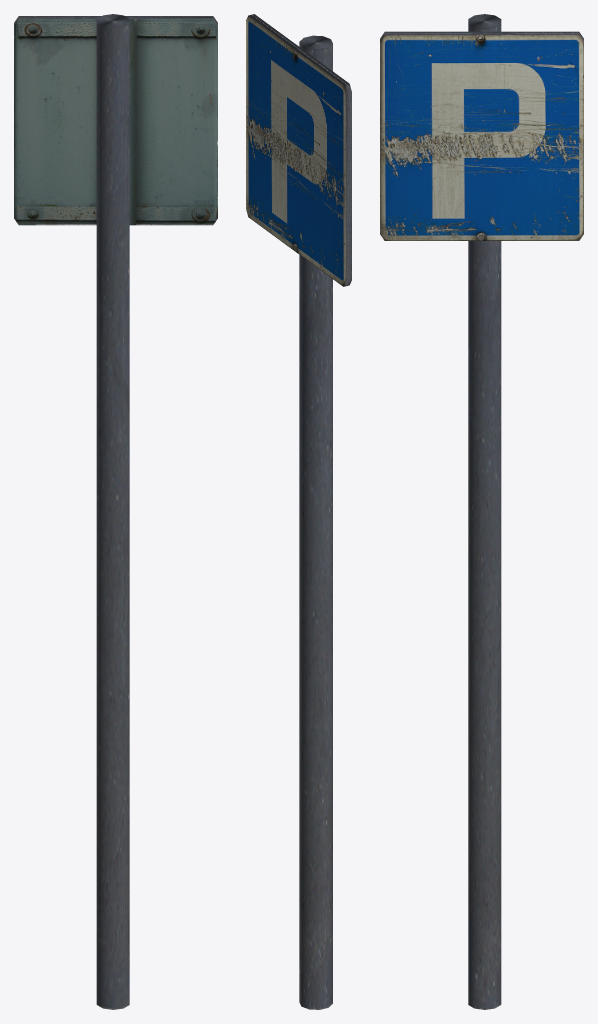
File: c2_parking_sign.fbx
3 views of the same model, side by side, from view 1: azimuth 90°, elevation 25°; view 2: azimuth 210°, elevation 25°; view 3: azimuth 270°, elevation 25° (orthographic). The views are drawn at different scales.
Parts seen in each view (by area): view 1: Mesh; view 2: Mesh; view 3: Mesh.
Part boxes in pixels (bbox=[...]): Mesh: bbox=[14, 14, 217, 1009]; Mesh: bbox=[246, 14, 351, 1009]; Mesh: bbox=[380, 14, 583, 1009].
Bounding box in the file's own units: 8.7 × 238 × 44.8.
